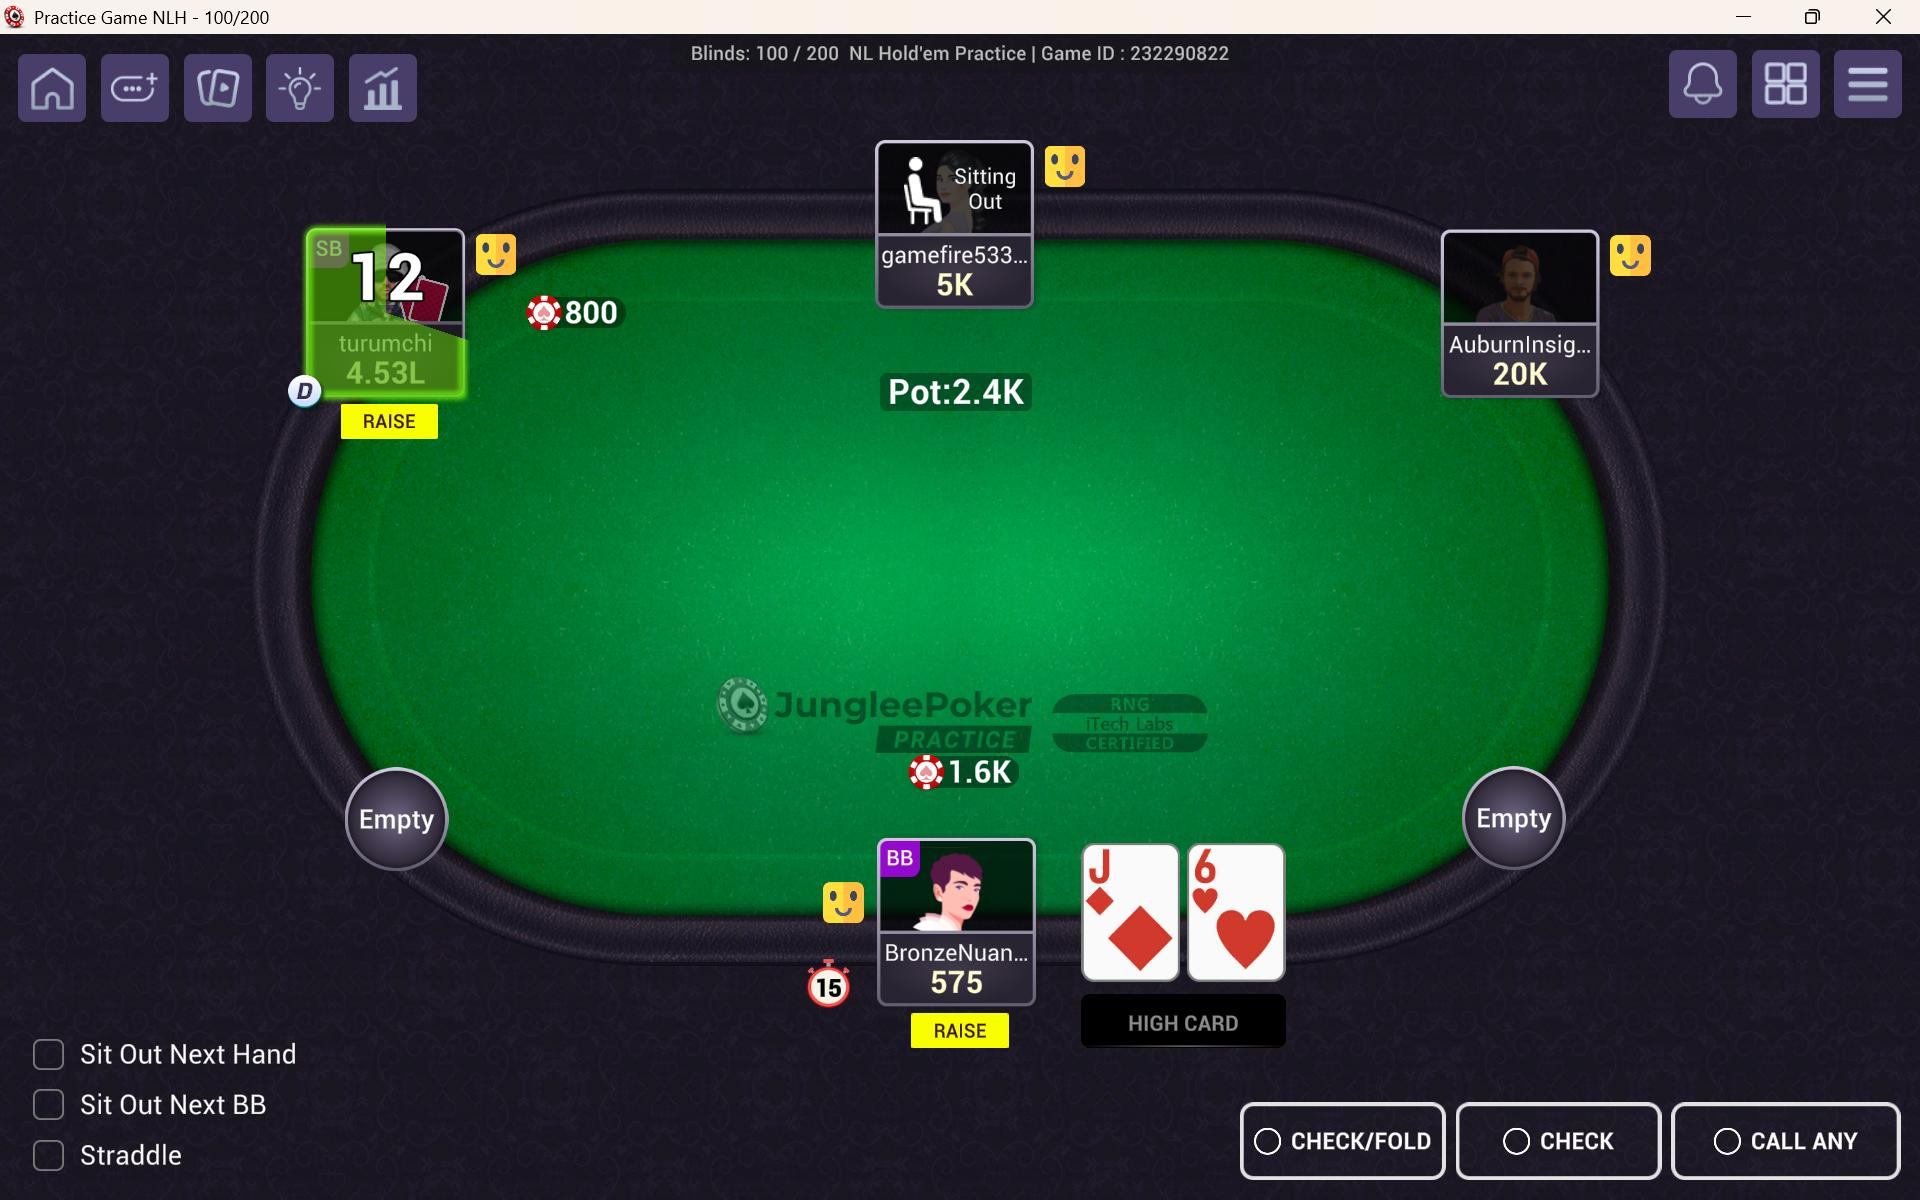card1_rank: (1082, 842, 1143, 890)
card1_suite_diamond: (1091, 890, 1178, 977)
card2_rank: (1190, 845, 1230, 890)
card2_suite_heart: (1212, 897, 1280, 980)
game_id: (1035, 40, 1268, 84)
my_bet: (903, 745, 1026, 800)
my_stack: (910, 968, 1002, 1000)
position_BB: (881, 838, 921, 881)
position_SB: (310, 229, 358, 270)
total_pot: (881, 372, 1039, 411)
villian2_bet: (523, 278, 634, 335)
villian2_name: (315, 322, 464, 358)
villian2_stack: (322, 358, 458, 395)
villian3_name: (881, 238, 1030, 272)
villian3_stack: (893, 270, 1017, 310)
villian4_name: (1443, 322, 1601, 359)
villian4_stack: (1472, 362, 1570, 395)
